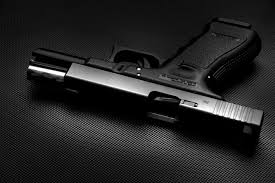gun: (25, 11, 269, 132)
